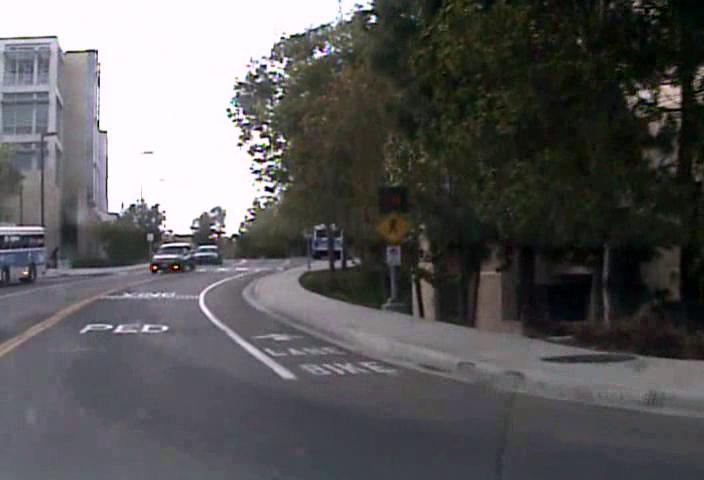pedestrianCrossing: (375, 210, 411, 244)
